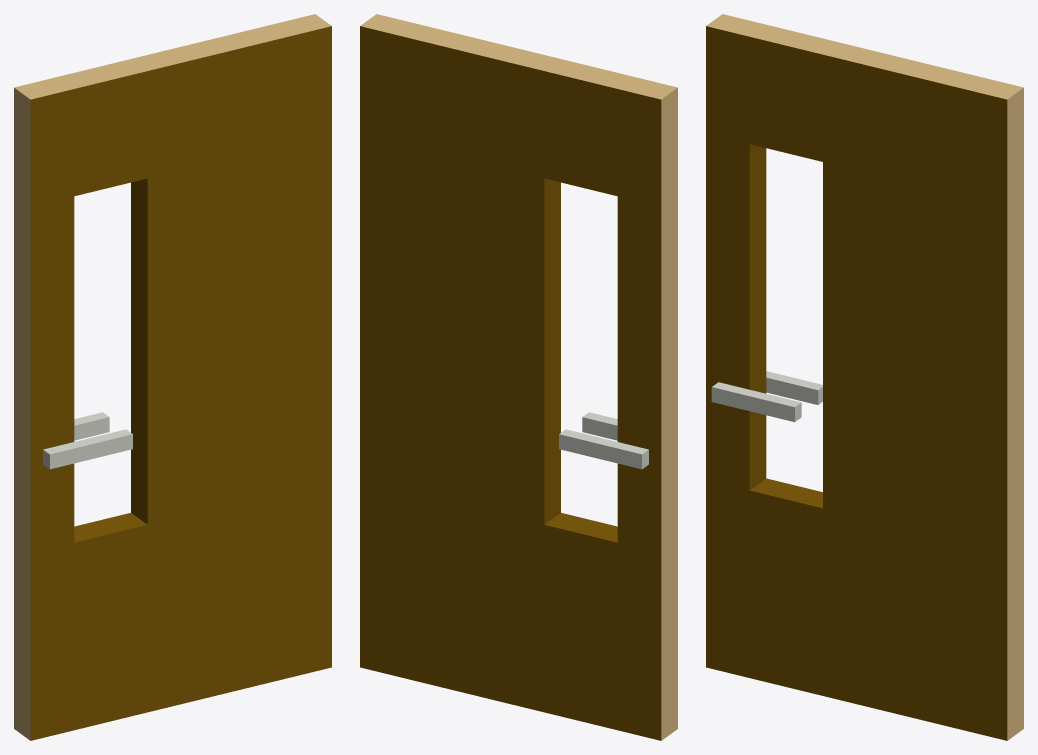
File: door_wood_full.fbx
3 views of the same model, side by side, from view 1: azimuth 30°, elevation 25°; view 2: azimuth 150°, elevation 25°; view 3: azimuth 330°, elevation 25° (orthographic).
Visible parts, largest first — view 1: door_wood_full; view 2: door_wood_full; view 3: door_wood_full.
Boxes of the visible parts, x1,y1,x2,y2 form: door_wood_full: (14,14,331,740); door_wood_full: (360,14,677,740); door_wood_full: (706,14,1023,740).
Bounding box in the file's own units: 2.55 × 5.2 × 0.441.
